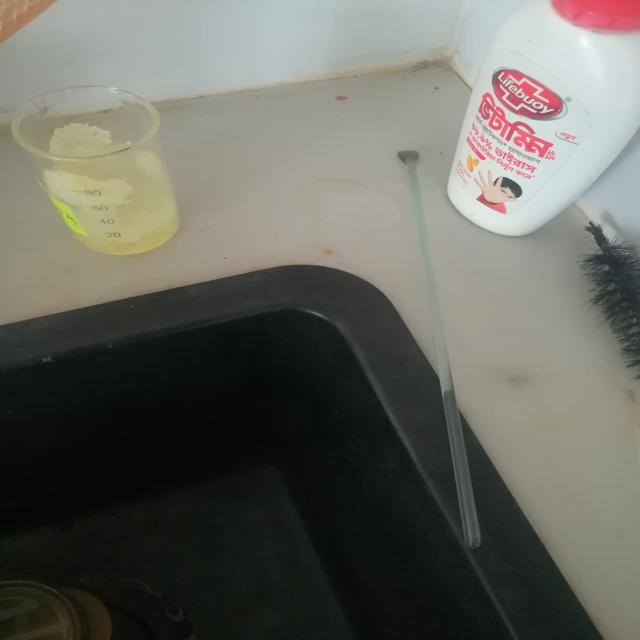Glass_Rod: (368, 121, 528, 586)
